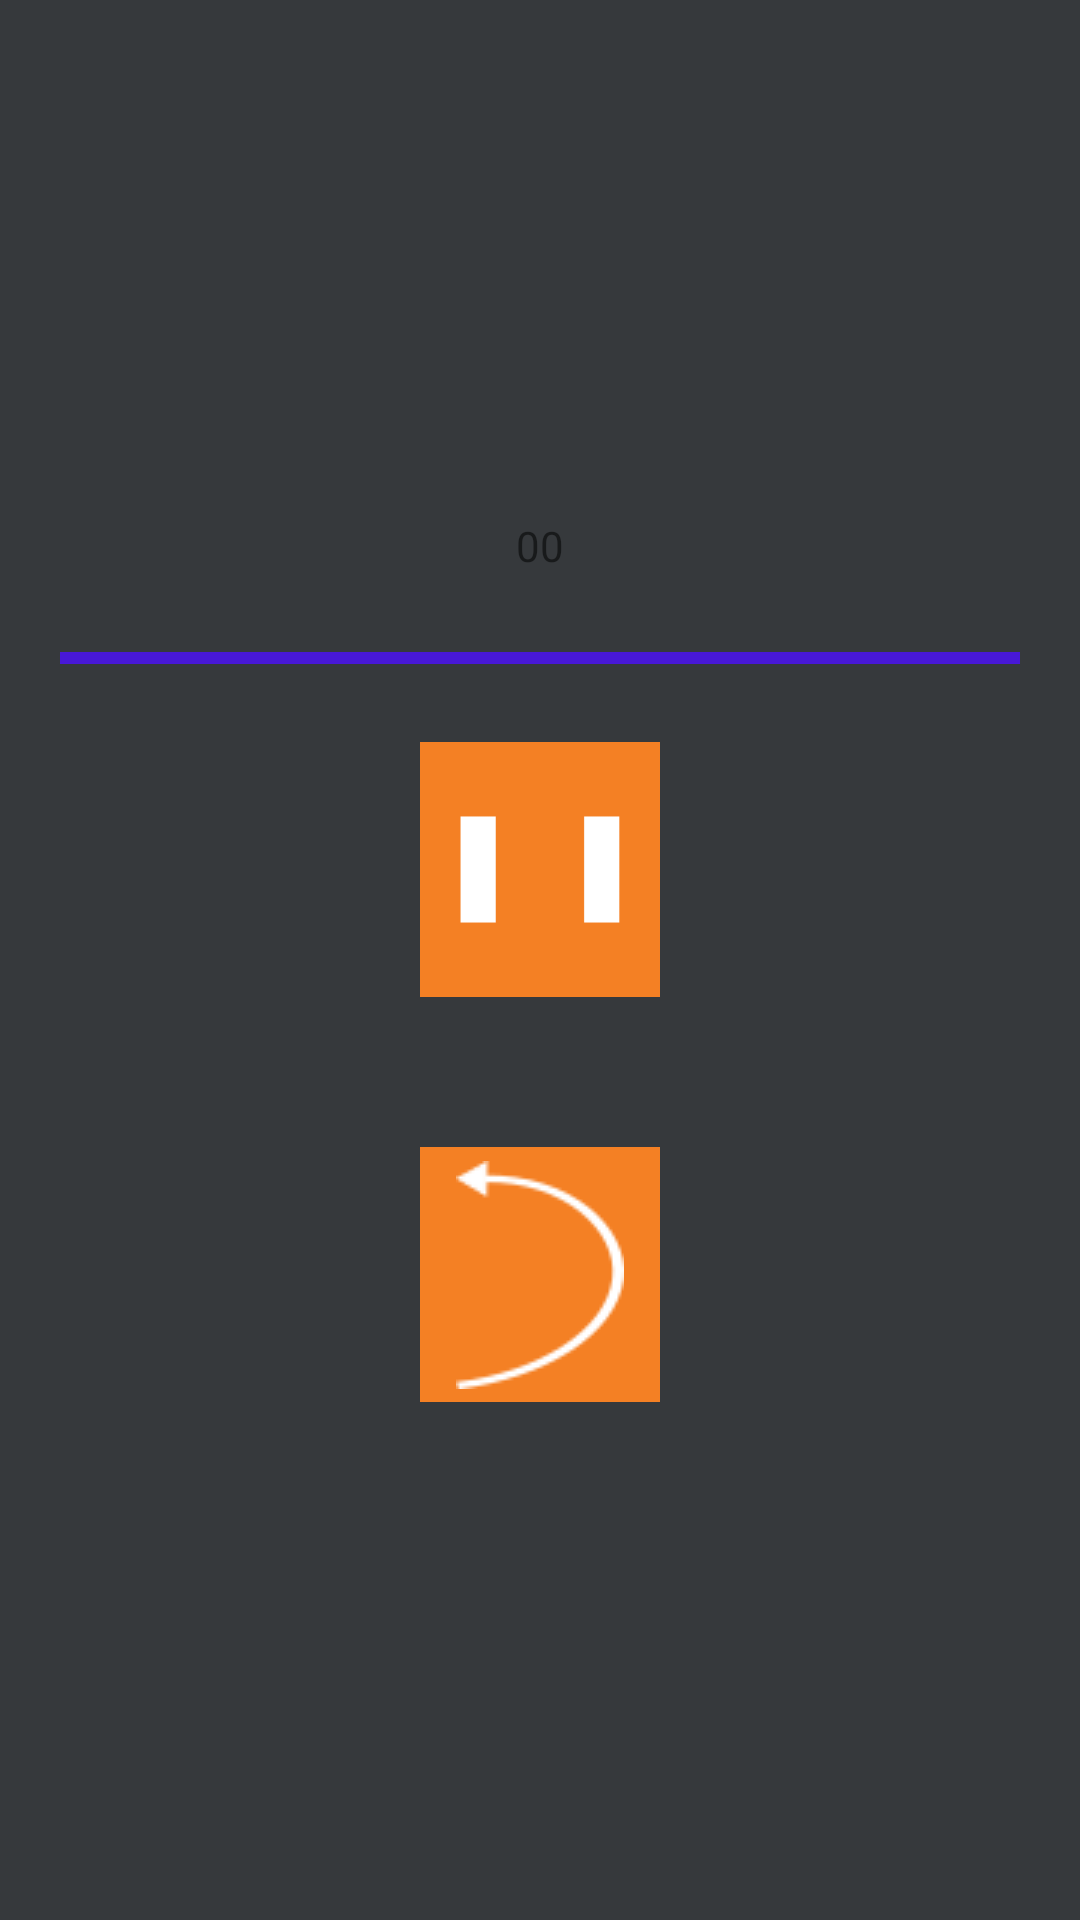

Point at icon controls on the screen. Image size 1080 × 1920, points as (x,y).
pause: (540,869)
retrocederblanco: (540,1274)
